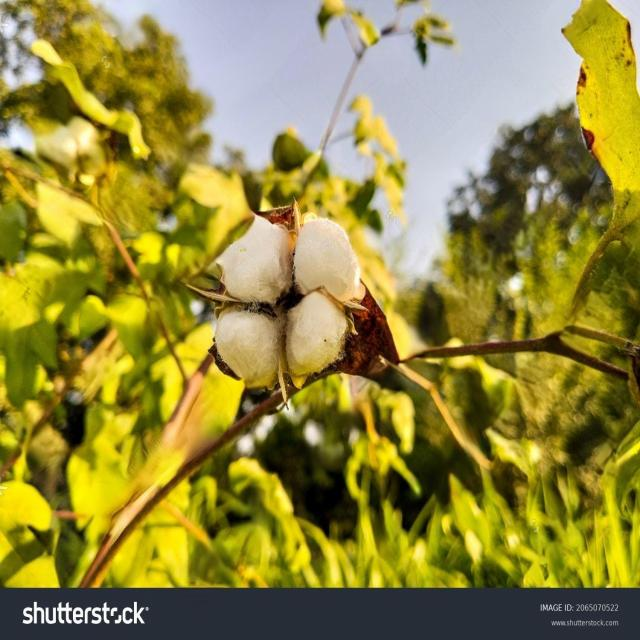Leaf: (165, 198, 414, 397)
